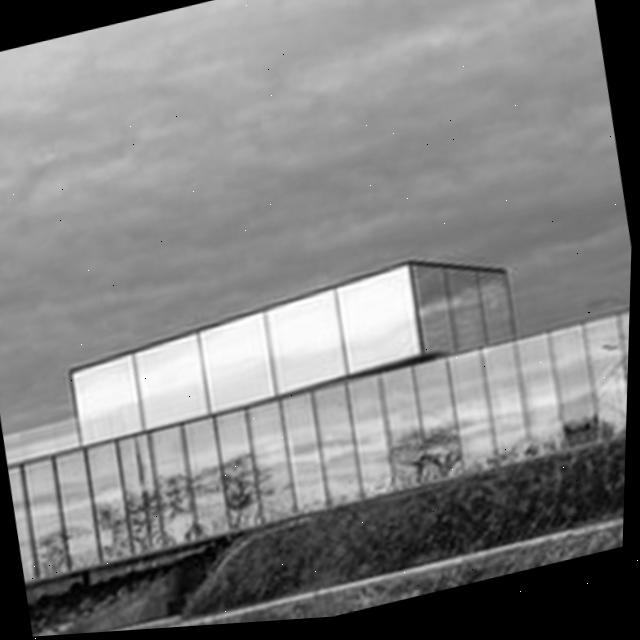building: (0, 205, 633, 589)
